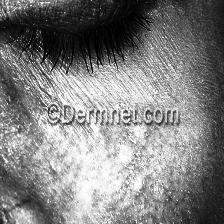Benign Marking or Mole: (117, 143, 135, 167)
